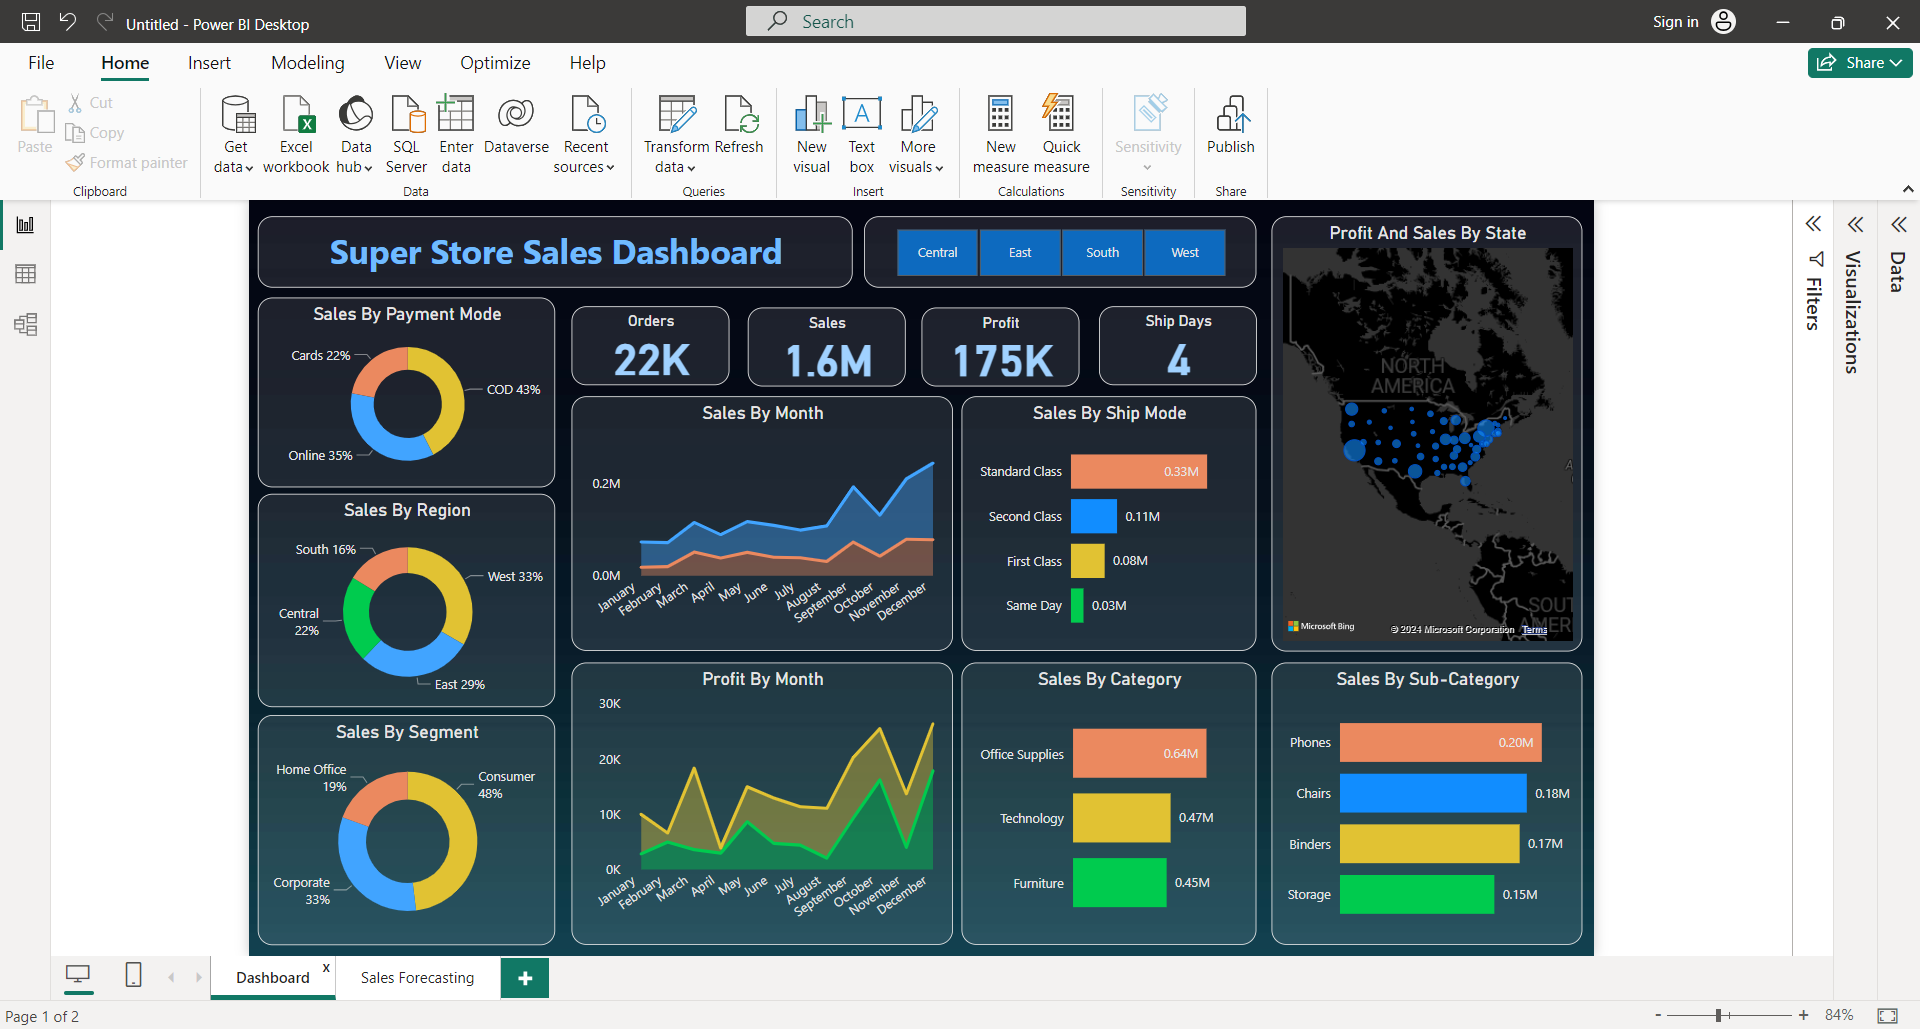

Layout of this report page (visuals, bound fields, positions):
{"tool":"powerbi","page":{"name":"Dashboard","canvas":[1280,720],"ordinal":0},"visuals":[{"type":"clusteredBarChart","title":"Sales By Category","fields":{"Category":["SuperStore_Sales_Dataset.Category"],"Y":["Sum(SuperStore_Sales_Dataset.Sales)"]},"box":[678.3,440.3,280.9,269],"z":0},{"type":"clusteredBarChart","title":"Sales By Sub-Category","fields":{"Y":["Sum(SuperStore_Sales_Dataset.Sales)"],"Category":["SuperStore_Sales_Dataset.Sub-Category"]},"box":[973.5,440.3,296.3,269],"z":1000},{"type":"clusteredBarChart","title":"Sales By Ship Mode","fields":{"Y":["Sum(SuperStore_Sales_Dataset.Sales)"],"Category":["SuperStore_Sales_Dataset.Ship Mode"]},"box":[678.3,186.8,280.9,242.8],"z":2000},{"type":"stackedAreaChart","title":"Sales By Month","fields":{"Y":["Sum(SuperStore_Sales_Dataset.Sales)"],"Category":["SuperStore_Sales_Dataset.Order Date.Variation.Date Hierarchy.Month","SuperStore_Sales_Dataset.Order Date.Variation.Date Hierarchy.Day"],"Series":["SuperStore_Sales_Dataset.Order Date.Variation.Date Hierarchy.Year"]},"box":[307,186.8,363,242.8],"z":3000},{"type":"stackedAreaChart","title":"Profit By Month","fields":{"Category":["SuperStore_Sales_Dataset.Order Date.Variation.Date Hierarchy.Month","SuperStore_Sales_Dataset.Order Date.Variation.Date Hierarchy.Day"],"Series":["SuperStore_Sales_Dataset.Order Date.Variation.Date Hierarchy.Year"],"Y":["Sum(SuperStore_Sales_Dataset.Profit)"]},"box":[307,440.3,363,269],"z":4000},{"type":"map","title":"Profit And Sales By State","fields":{"Category":["SuperStore_Sales_Dataset.State"],"Size":["Sum(SuperStore_Sales_Dataset.Sales)"]},"box":[973.5,15.5,296.3,414.1],"z":5000},{"type":"donutChart","title":"Sales By Segment","fields":{"Category":["SuperStore_Sales_Dataset.Segment"],"Y":["Sum(SuperStore_Sales_Dataset.Sales)"]},"box":[8.3,490.3,283.2,219],"z":6000},{"type":"donutChart","title":"Sales By Payment Mode","fields":{"Y":["Sum(SuperStore_Sales_Dataset.Sales)"],"Category":["SuperStore_Sales_Dataset.Payment Mode"]},"box":[8.3,92.8,283.2,180.9],"z":7000},{"type":"slicer","fields":{"Values":["SuperStore_Sales_Dataset.Region"]},"box":[585.5,15.5,373.7,67.8],"z":8000},{"type":"textbox","box":[8.3,15.5,566.5,67.8],"z":9000},{"type":"donutChart","title":"Sales By Region","fields":{"Y":["Sum(SuperStore_Sales_Dataset.Sales)"],"Category":["SuperStore_Sales_Dataset.Region"]},"box":[8.3,279.7,283.2,203.5],"z":10000},{"type":"card","title":"Sales","fields":{"Values":["Sum(SuperStore_Sales_Dataset.Sales)"]},"box":[474.8,102.3,150,75],"z":11000},{"type":"card","title":"Orders","fields":{"Values":["Sum(SuperStore_Sales_Dataset.Quantity)"]},"box":[307,101.2,150,75],"z":12000},{"type":"card","title":"Profit","fields":{"Values":["Sum(SuperStore_Sales_Dataset.Profit)"]},"box":[640.3,102.3,150,75],"z":13000},{"type":"card","title":"Ship Days","fields":{"Values":["Avg(SuperStore_Sales_Dataset.AvgDelivery)"]},"box":[809.3,101.2,150,75],"z":14000}]}

Visuals, with their boxes on the page's 1280x720 design canvas (x1, y1, x2, y2). These are canvas units, not pixel positions in the 1920x1029 screenshot, which may show the page scaled, cropped or inside an application window:
"Sales By Category" clusteredBarChart: bbox(678, 440, 959, 709)
"Sales By Sub-Category" clusteredBarChart: bbox(974, 440, 1270, 709)
"Sales By Ship Mode" clusteredBarChart: bbox(678, 187, 959, 430)
"Sales By Month" stackedAreaChart: bbox(307, 187, 670, 430)
"Profit By Month" stackedAreaChart: bbox(307, 440, 670, 709)
"Profit And Sales By State" map: bbox(974, 16, 1270, 430)
"Sales By Segment" donutChart: bbox(8, 490, 292, 709)
"Sales By Payment Mode" donutChart: bbox(8, 93, 292, 274)
slicer - SuperStore_Sales_Dataset.Region: bbox(586, 16, 959, 83)
textbox: bbox(8, 16, 575, 83)
"Sales By Region" donutChart: bbox(8, 280, 292, 483)
"Sales" card: bbox(475, 102, 625, 177)
"Orders" card: bbox(307, 101, 457, 176)
"Profit" card: bbox(640, 102, 790, 177)
"Ship Days" card: bbox(809, 101, 959, 176)
